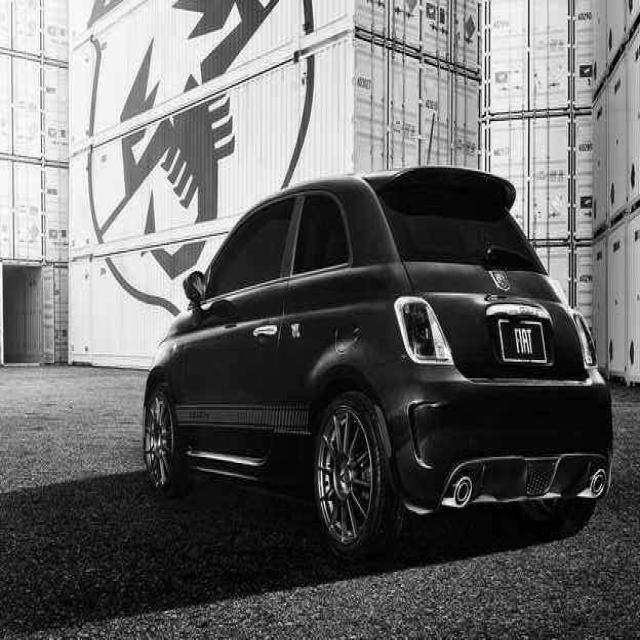car: (141, 163, 614, 563)
